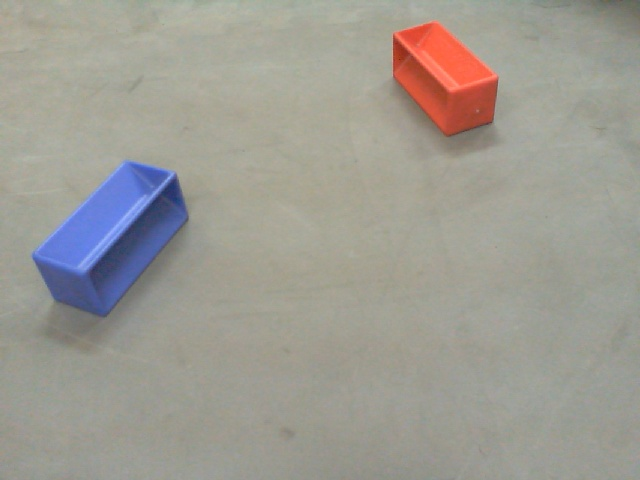BlueSample: (29, 160, 187, 317)
RedSample: (386, 16, 501, 137)
